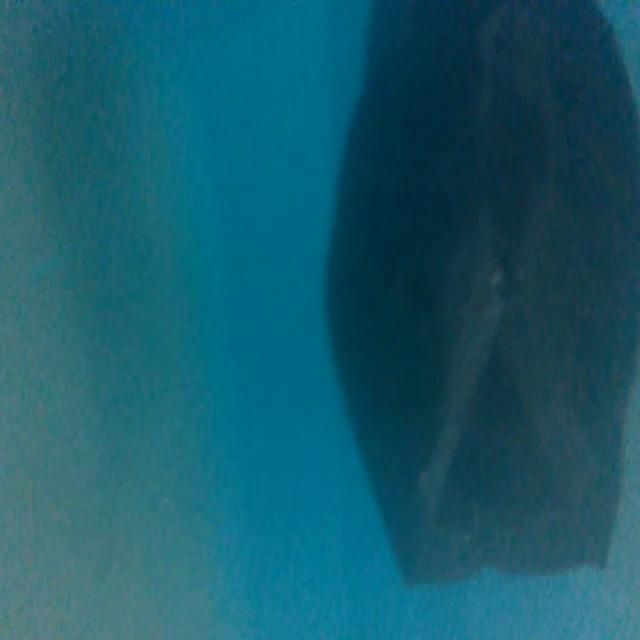plastic bags: (326, 4, 635, 590)
